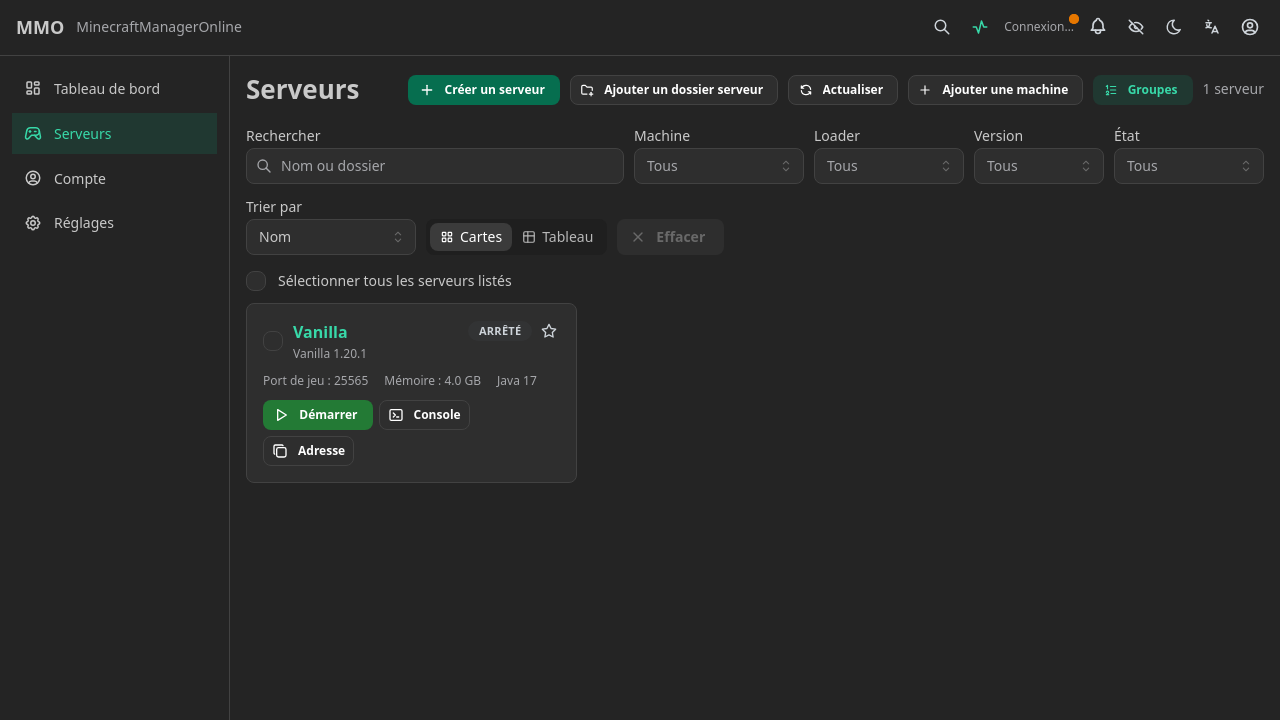
Test: App › créer un serveur sans dossier surveillé : le dossier se demande sur place, puis l’assistant s’ouvre
Click the button with test id "servers-create-server".
click(484, 90)  # box [408,74,560,104]
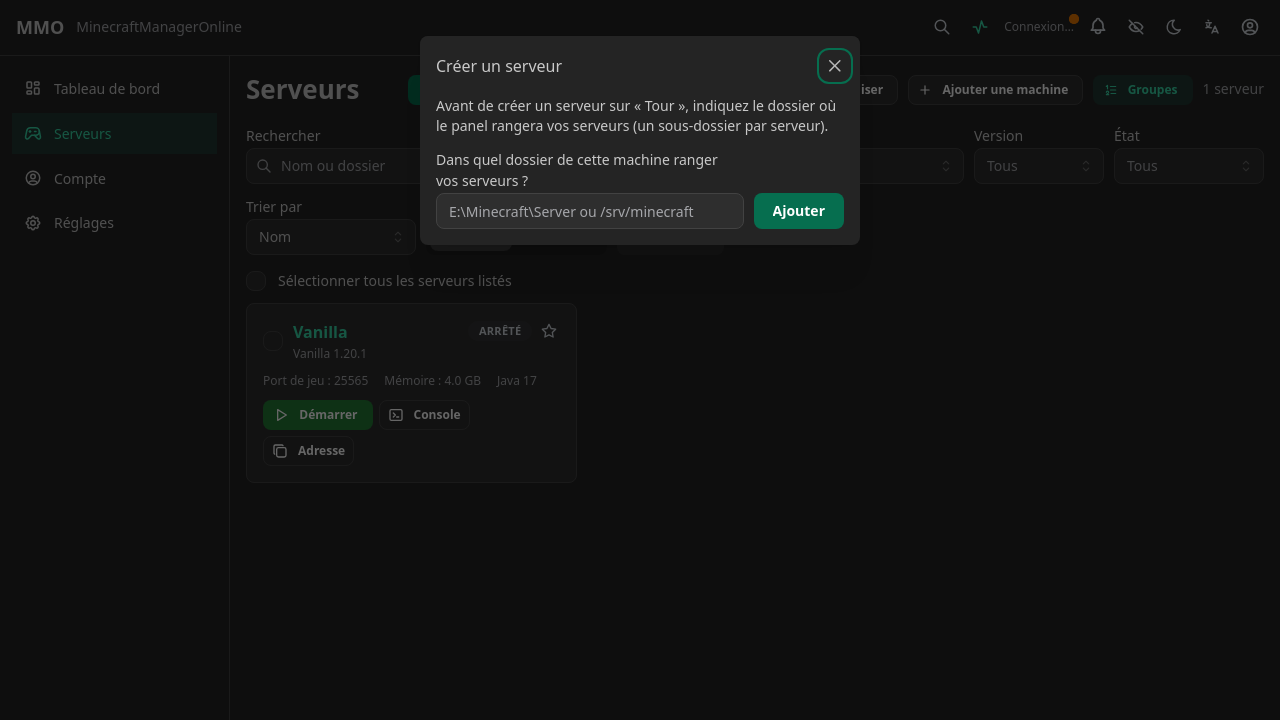
Result: the element with test id "create-needs-directory" is shown at [436,96,844,229]
Type "E:\\srv" into the field with test id "create-directory".
click(590, 211); type("E:\\srv")  # box [436,193,744,229]
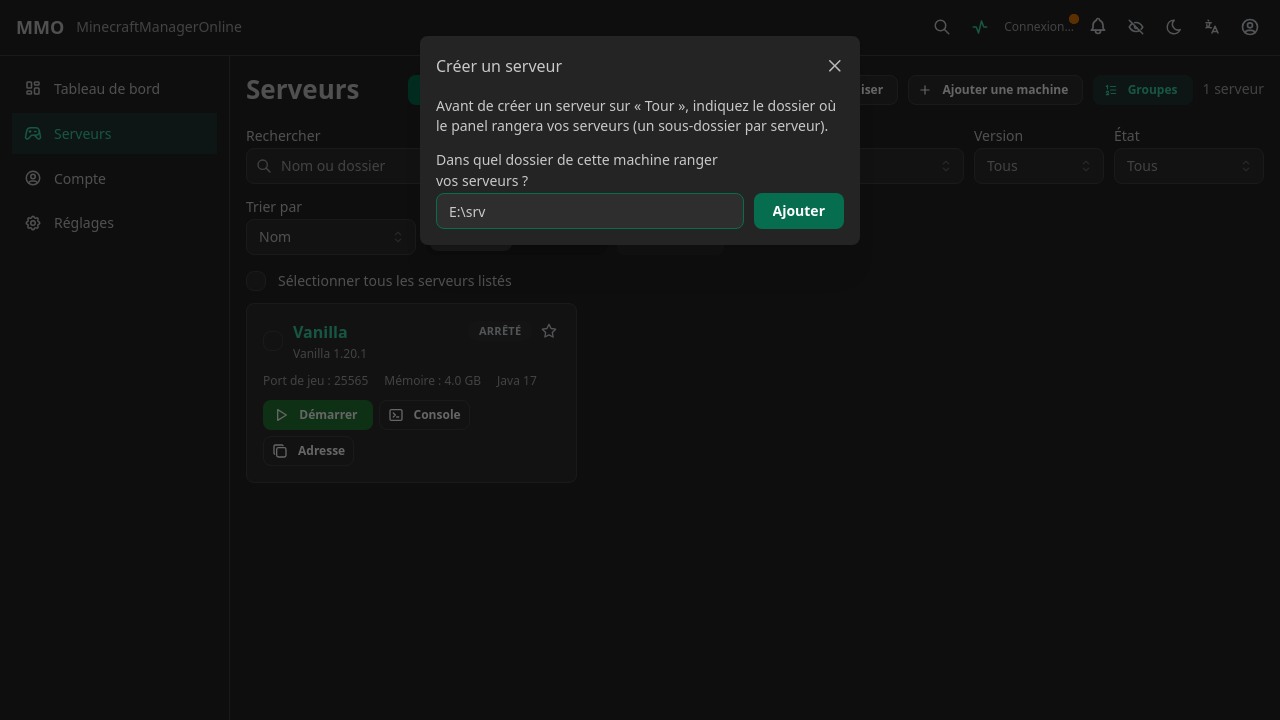
Click the button with test id "create-directory-add".
click(799, 211)  # box [754,193,844,229]
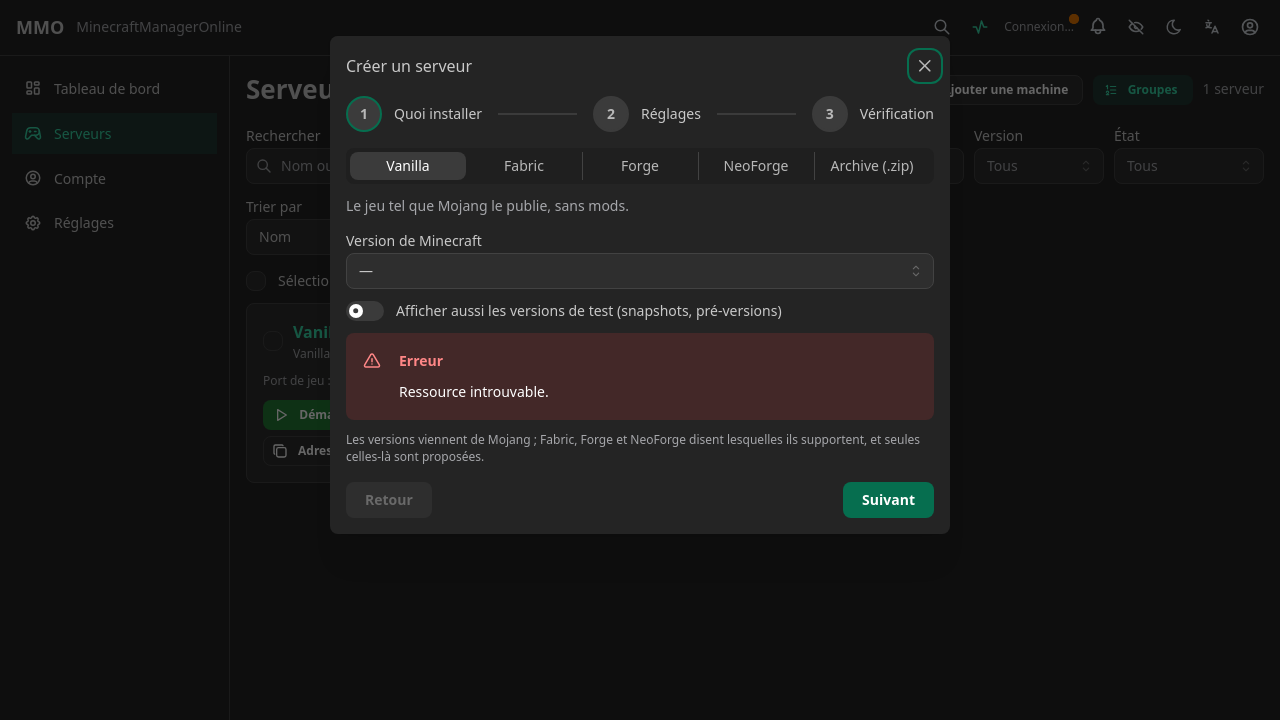
Result: the element with test id "install-loader" is shown at [346,148,934,184]
Result: the element with test id "create-needs-directory" is gone
